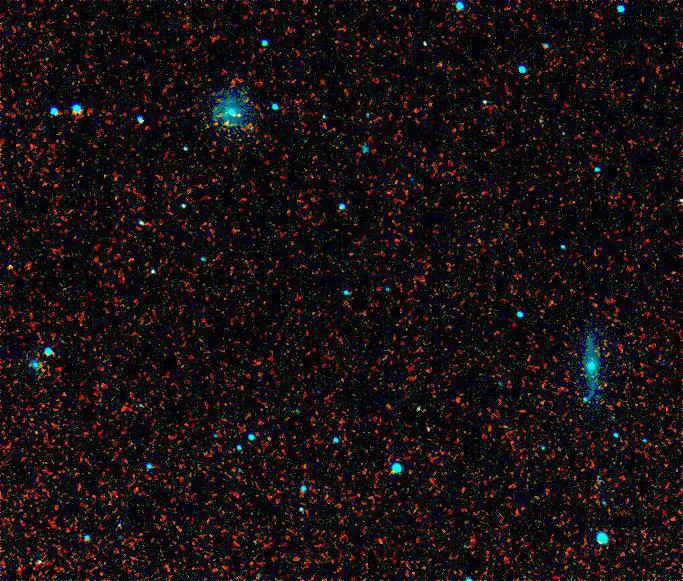star: (0, 250, 26, 280)
